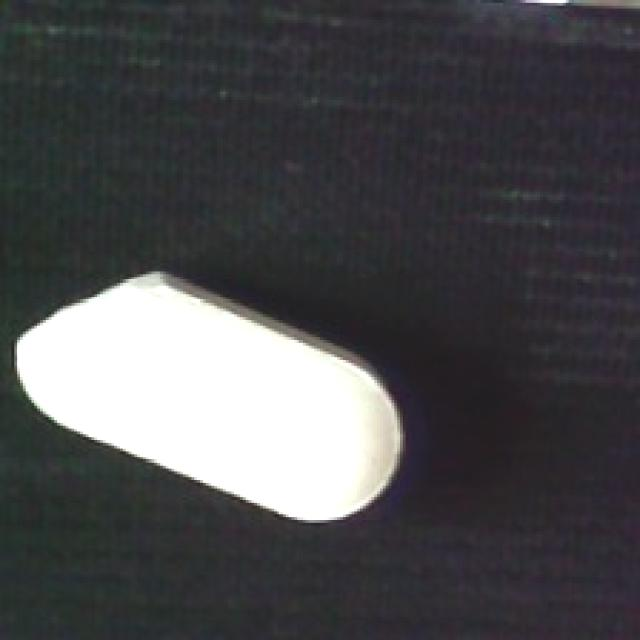defected: (14, 263, 414, 526)
